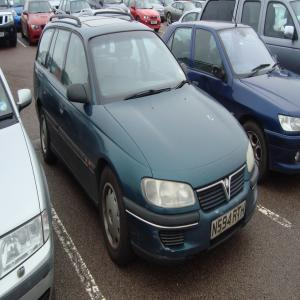Vehicle-registration-plate: (212, 201, 248, 240), (1, 33, 4, 39), (152, 22, 158, 25)
